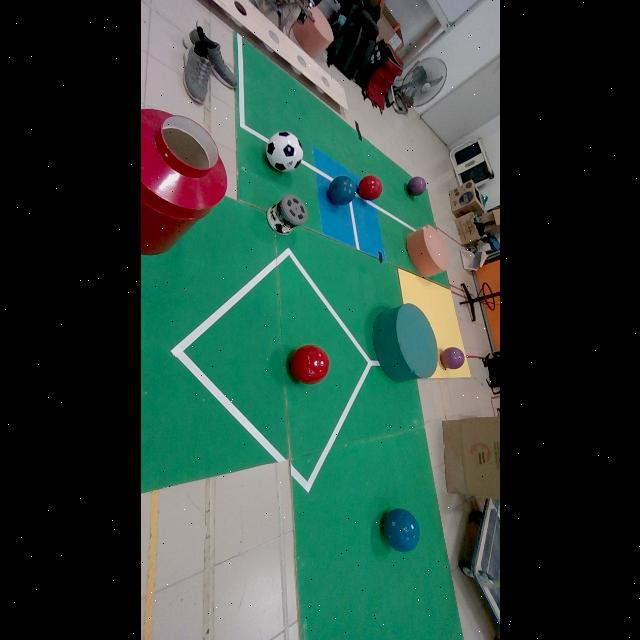B: (383, 509, 419, 552), (326, 176, 357, 205)
P: (440, 348, 464, 369), (407, 176, 426, 197)
R: (289, 345, 330, 385), (357, 175, 382, 200)
